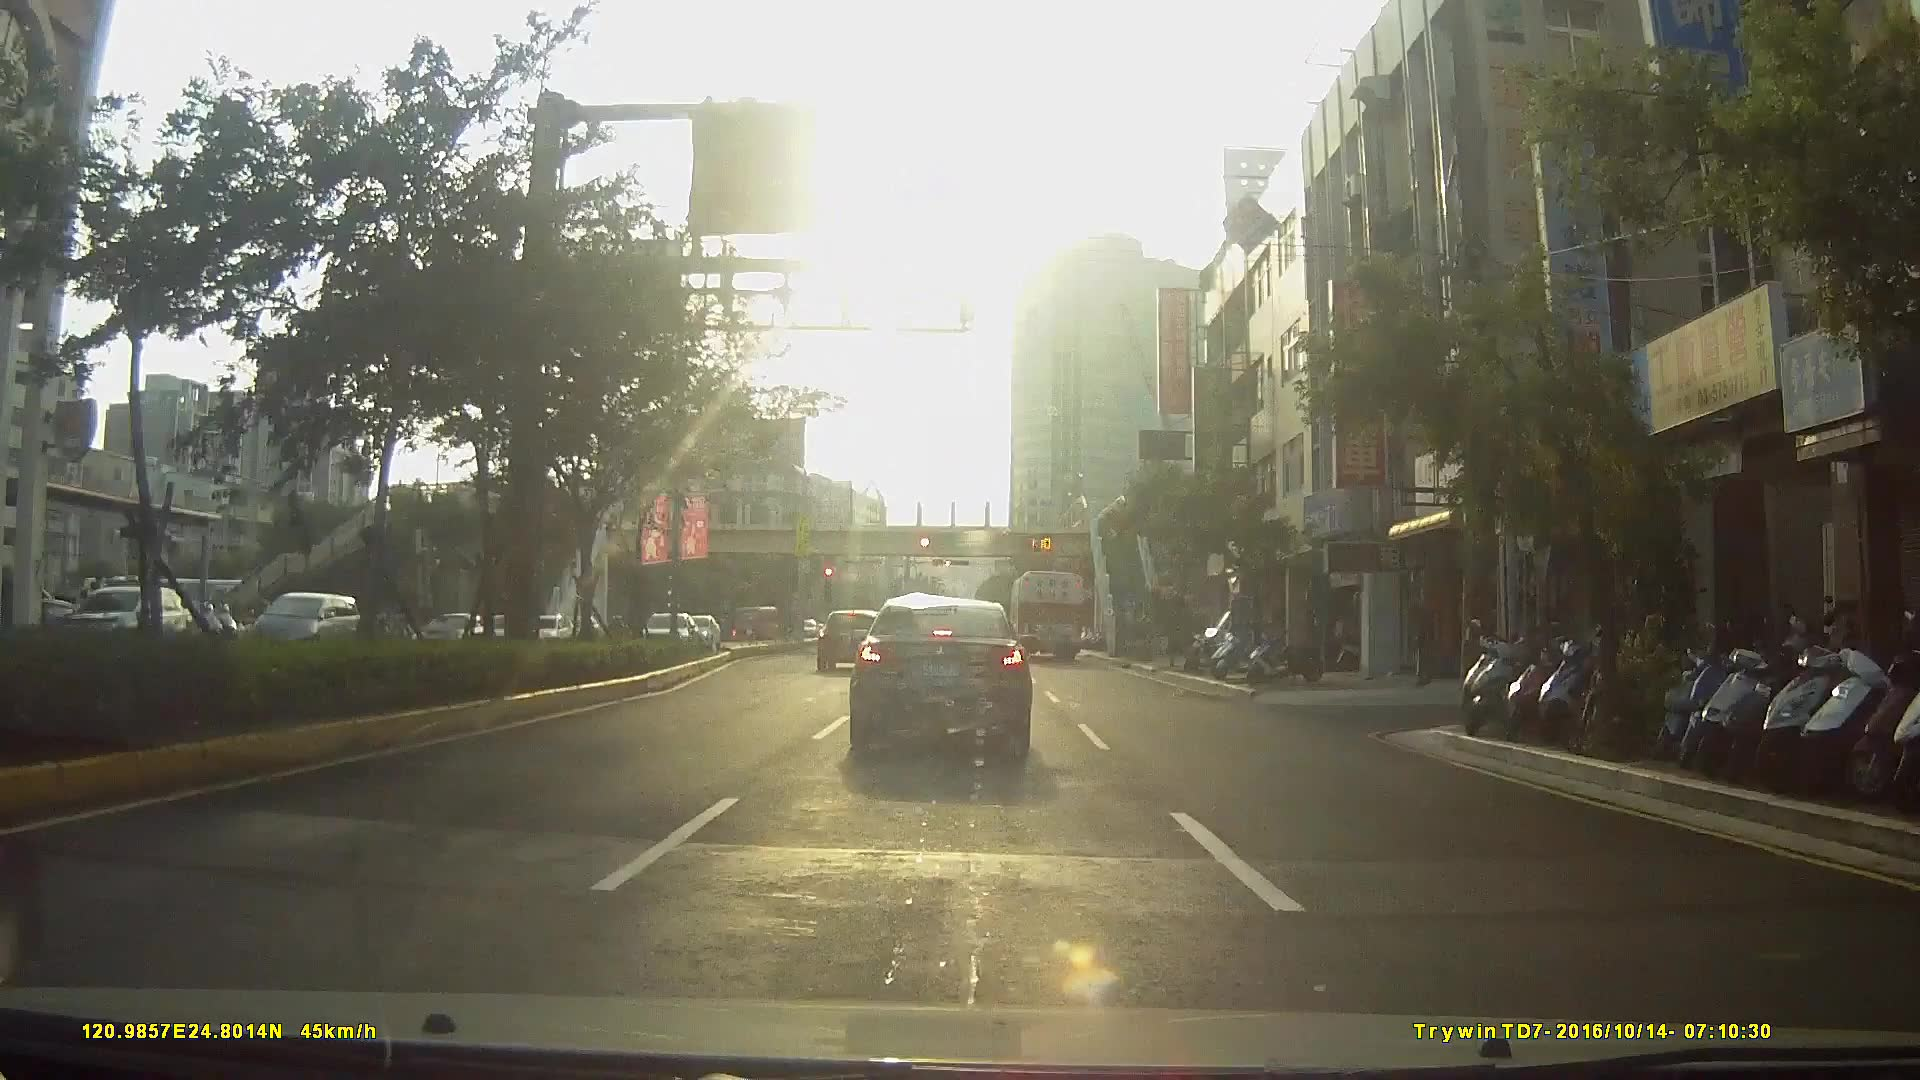vehicle: (847, 593, 1034, 757), (71, 526, 178, 680), (1006, 567, 1087, 665), (244, 592, 360, 655), (816, 607, 885, 676), (640, 611, 698, 654)
